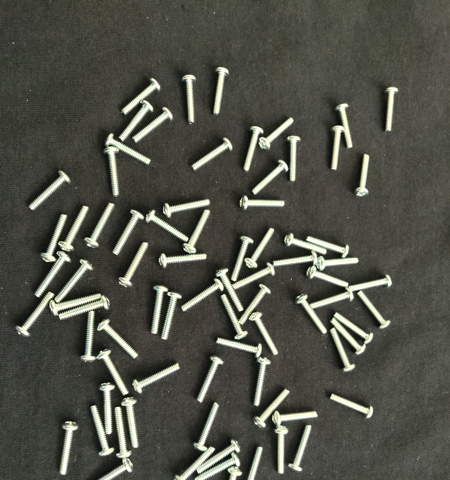longscrew: (25, 168, 73, 214), (15, 291, 55, 339), (32, 252, 72, 299), (97, 318, 140, 361), (54, 259, 95, 304), (117, 77, 162, 117), (83, 201, 118, 250), (110, 208, 144, 258), (56, 205, 90, 255), (104, 133, 152, 168), (38, 212, 70, 264), (179, 278, 225, 314), (252, 388, 292, 429), (131, 106, 174, 144), (117, 100, 155, 143), (195, 441, 243, 475), (131, 363, 182, 395), (189, 138, 234, 174), (96, 349, 129, 398), (294, 292, 329, 338), (116, 241, 150, 288), (145, 211, 191, 245), (237, 285, 273, 328), (218, 294, 250, 342), (181, 208, 213, 256), (173, 445, 216, 480), (357, 290, 392, 333), (244, 225, 277, 270), (87, 405, 115, 458), (330, 317, 367, 357), (250, 159, 290, 196), (191, 401, 220, 452), (249, 312, 281, 358), (57, 296, 111, 323), (195, 355, 224, 405), (333, 312, 375, 346), (216, 268, 246, 314), (327, 328, 357, 374), (193, 452, 242, 480), (329, 392, 376, 421), (229, 262, 276, 291), (57, 420, 80, 478), (306, 264, 352, 293), (257, 117, 295, 152), (288, 424, 314, 474), (230, 235, 256, 285), (159, 292, 183, 342), (48, 294, 101, 316), (284, 233, 330, 258), (82, 458, 134, 480), (79, 309, 99, 366), (242, 125, 265, 174), (306, 234, 351, 259), (162, 198, 213, 220), (121, 397, 142, 450), (113, 406, 133, 461), (149, 283, 169, 338), (102, 144, 122, 199), (216, 338, 265, 360), (309, 289, 355, 312), (333, 102, 355, 150), (97, 382, 116, 437), (252, 356, 272, 408), (381, 85, 401, 136), (211, 67, 231, 117), (273, 423, 291, 478), (156, 251, 210, 269), (354, 151, 374, 199), (239, 445, 265, 480), (181, 73, 198, 126), (347, 275, 394, 294), (272, 252, 321, 270), (271, 410, 319, 428), (237, 195, 286, 212), (329, 126, 346, 174), (315, 254, 360, 272), (287, 134, 303, 184), (218, 468, 244, 480)
